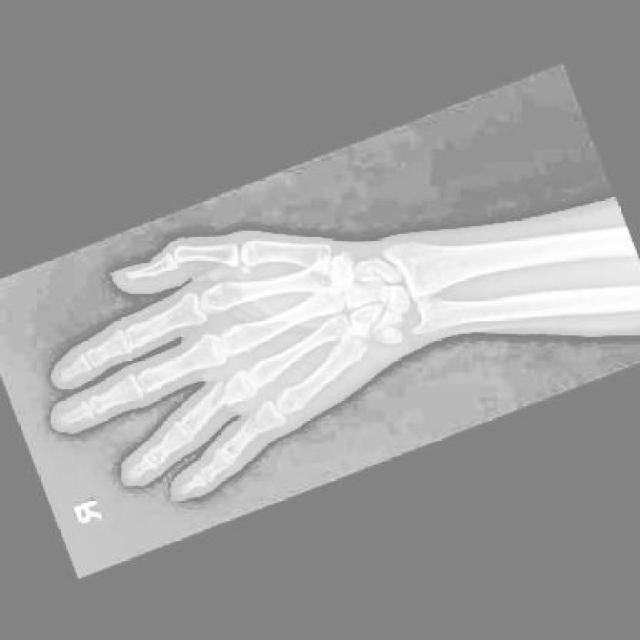Fracture: (197, 374, 234, 411), (236, 408, 265, 439)
